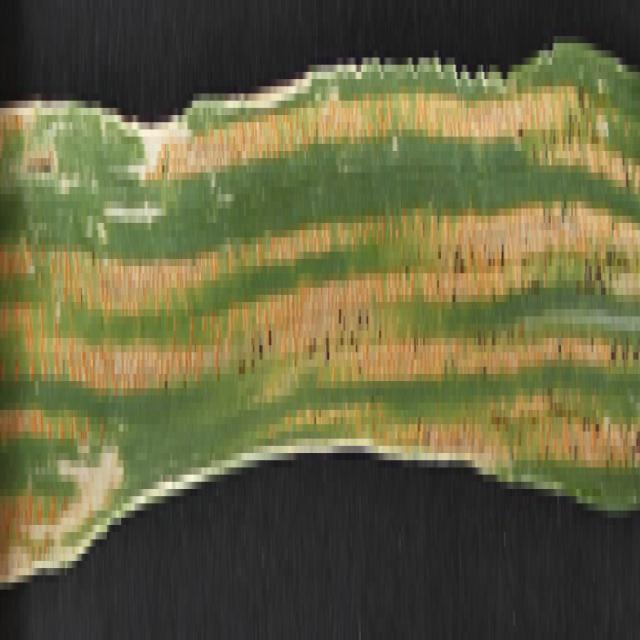leaf rust: (2, 57, 640, 525)
